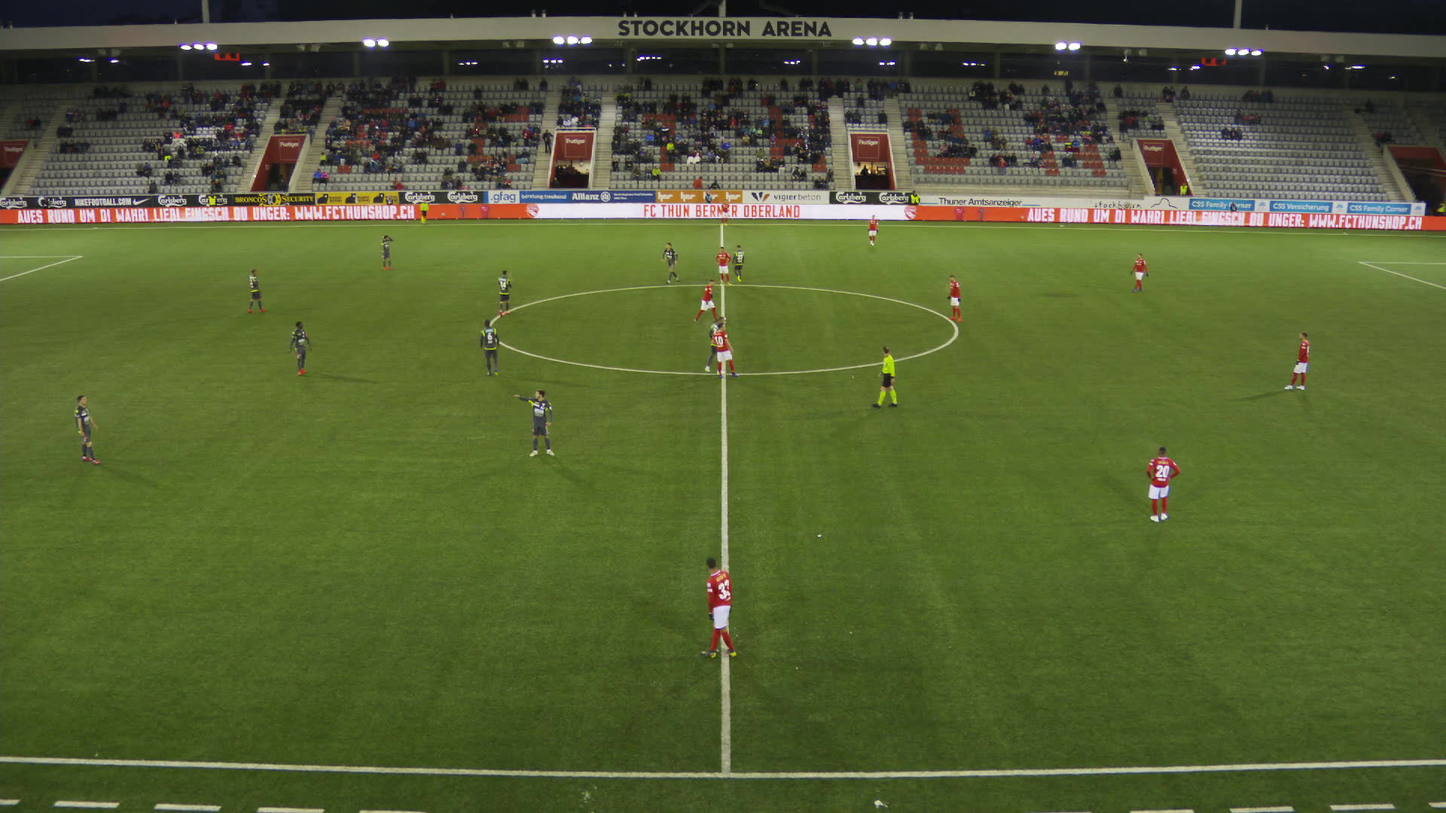ball: (719, 315, 725, 321)
player: (703, 556, 743, 657), (514, 388, 557, 458), (1145, 444, 1181, 522), (73, 394, 102, 464), (1281, 330, 1309, 390), (692, 279, 728, 322), (713, 321, 738, 378), (477, 319, 501, 378), (288, 320, 312, 376), (704, 316, 725, 373), (246, 267, 266, 313), (495, 268, 513, 316), (1129, 252, 1149, 293), (945, 275, 962, 322), (661, 240, 679, 282), (715, 245, 732, 285), (731, 244, 745, 283), (380, 234, 394, 271), (866, 214, 879, 246), (719, 199, 729, 226)
referee: (871, 344, 901, 408), (419, 198, 428, 223)
